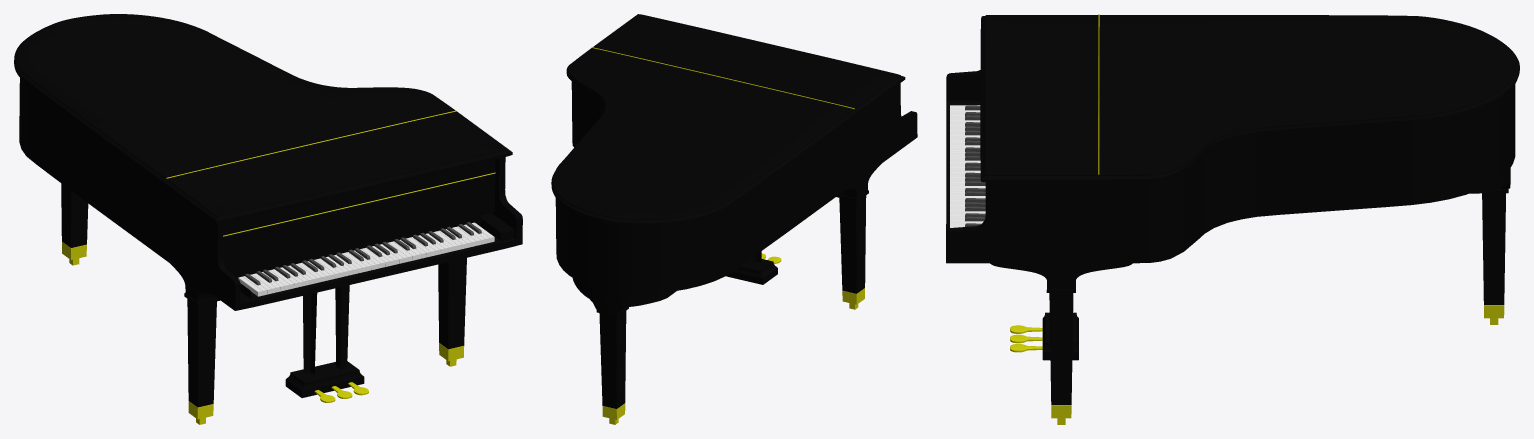
The model's file is model_design_piano1.gltf.
3 views of the same model, side by side, from view 1: azimuth 30°, elevation 25°; view 2: azimuth 150°, elevation 25°; view 3: azimuth 270°, elevation 25° (orthographic). The views are drawn at different scales.
Visible parts, largest first — view 1: head, wrap, face, leg, forbid_key, face_2, foot, line; view 2: head, wrap, leg, foot, line; view 3: head, wrap, leg, forbid_key, foot.
Boxes of the visible parts, left/top/right/bottom form: head: left=14, top=14, right=512, bottom=223; wrap: left=19, top=78, right=522, bottom=310; face: left=222, top=159, right=495, bottom=272; leg: left=61, top=183, right=466, bottom=407; forbid_key: left=238, top=222, right=494, bottom=296; face_2: left=232, top=213, right=514, bottom=298; foot: left=62, top=242, right=464, bottom=424; line: left=166, top=110, right=495, bottom=236; head: left=551, top=14, right=905, bottom=225; wrap: left=555, top=81, right=917, bottom=293; leg: left=572, top=163, right=881, bottom=408; foot: left=602, top=253, right=864, bottom=424; line: left=591, top=47, right=854, bottom=109; head: left=980, top=15, right=1519, bottom=182; wrap: left=946, top=70, right=1515, bottom=263; leg: left=990, top=168, right=1510, bottom=404; forbid_key: left=950, top=105, right=985, bottom=227; foot: left=1010, top=305, right=1504, bottom=424.
Bounding box in the file's own units: 2.59 × 2.01 × 3.94.
